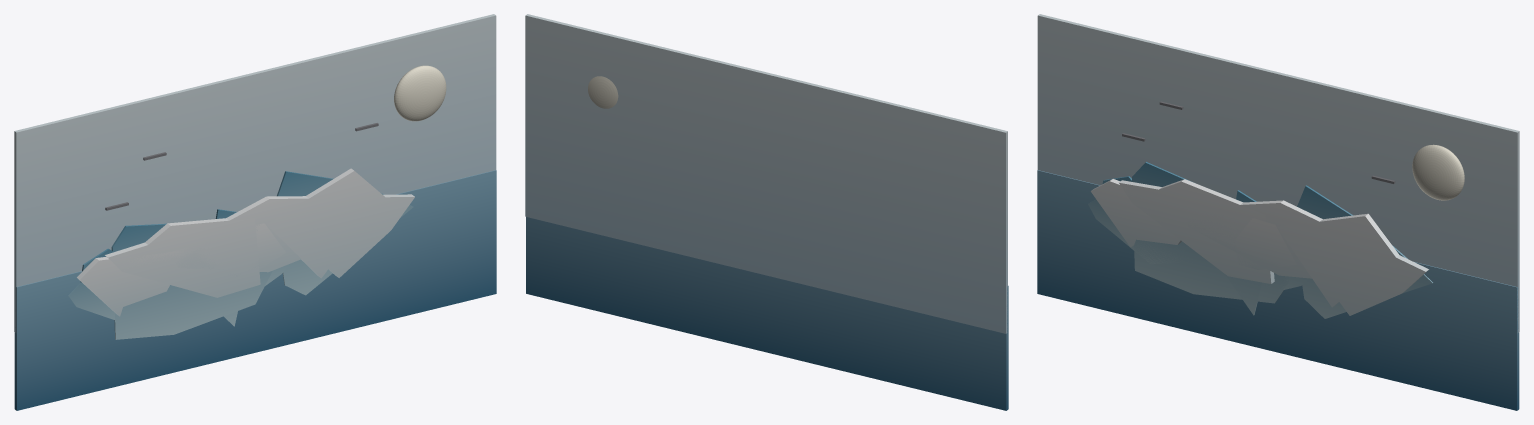
The model's file is icebergs-drift.glb.
3 renders of one model, left to right at view 1: azimuth 30°, elevation 25°; view 2: azimuth 150°, elevation 25°; view 3: azimuth 330°, elevation 25°, orthographic.
Visible parts, largest first — view 1: sky, water, iceberg_above_4, iceberg_above_0, iceberg_below_0, iceberg_above_1, iceberg_above_3, sun, iceberg_below_4, iceberg_below_1, iceberg_above_2; view 2: sky, water, sun; view 3: sky, water, iceberg_above_4, iceberg_above_0, iceberg_below_0, iceberg_above_3, iceberg_above_1, sun, iceberg_above_2, iceberg_below_4, iceberg_below_1, iceberg_below_3.
Boxes of the visible parts, x1,y1,x2,y2 form: sky: [14, 14, 496, 332]; water: [14, 170, 496, 410]; iceberg_above_4: [266, 168, 414, 278]; iceberg_above_0: [105, 218, 260, 297]; iceberg_below_0: [111, 223, 272, 339]; iceberg_above_1: [77, 247, 193, 316]; iceberg_above_3: [175, 196, 317, 272]; sun: [394, 65, 446, 121]; iceberg_below_4: [277, 171, 413, 295]; iceberg_below_1: [68, 248, 114, 319]; iceberg_above_2: [228, 223, 285, 277]; sky: [525, 14, 1007, 333]; water: [526, 217, 1008, 410]; sun: [588, 76, 618, 108]; sky: [1037, 14, 1519, 332]; water: [1037, 170, 1519, 410]; iceberg_above_4: [1277, 213, 1428, 315]; iceberg_above_0: [1119, 179, 1274, 283]; iceberg_below_0: [1132, 162, 1289, 303]; iceberg_above_3: [1187, 200, 1322, 278]; iceberg_above_1: [1091, 179, 1181, 247]; sun: [1412, 144, 1464, 200]; iceberg_above_2: [1235, 218, 1296, 269]; iceberg_below_4: [1297, 185, 1432, 318]; iceberg_below_1: [1088, 176, 1188, 264]; iceberg_below_3: [1226, 190, 1261, 315].
Bounding box in the file's own units: 6.5 × 3.6 × 0.21.
